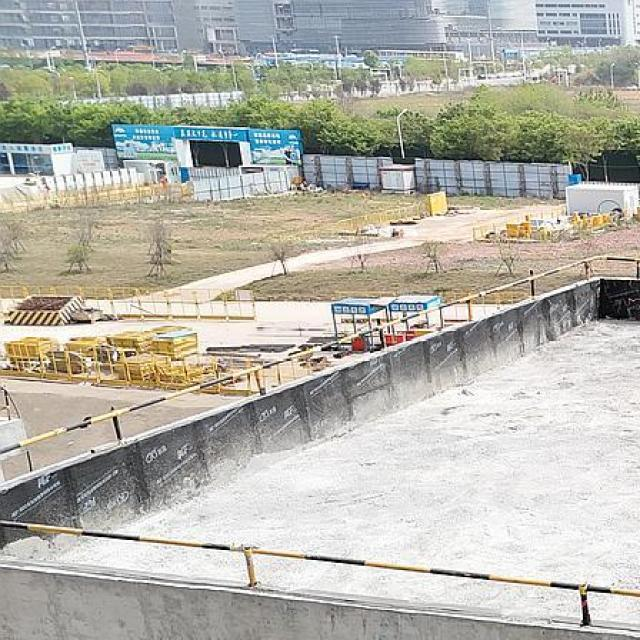Guardrail: (0, 254, 640, 459), (0, 518, 640, 628)
